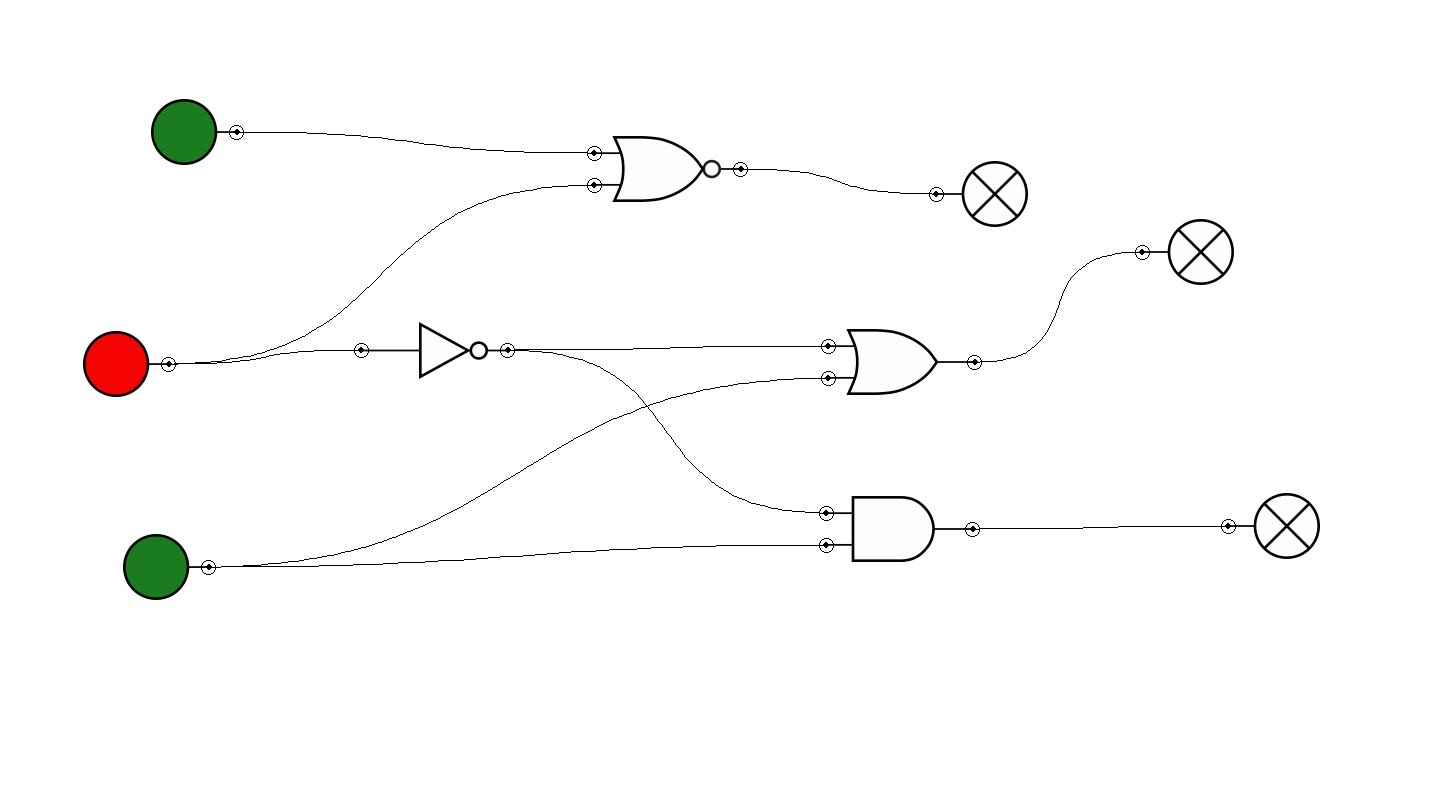and: (819, 496, 980, 562)
bulb: (1221, 493, 1320, 559), (1135, 219, 1234, 285), (929, 161, 1028, 227)
nor: (587, 136, 748, 202)
not: (354, 322, 515, 379)
or: (821, 329, 982, 395)
switch_False: (83, 331, 176, 397)
switch_True: (151, 99, 244, 165), (123, 534, 216, 600)
